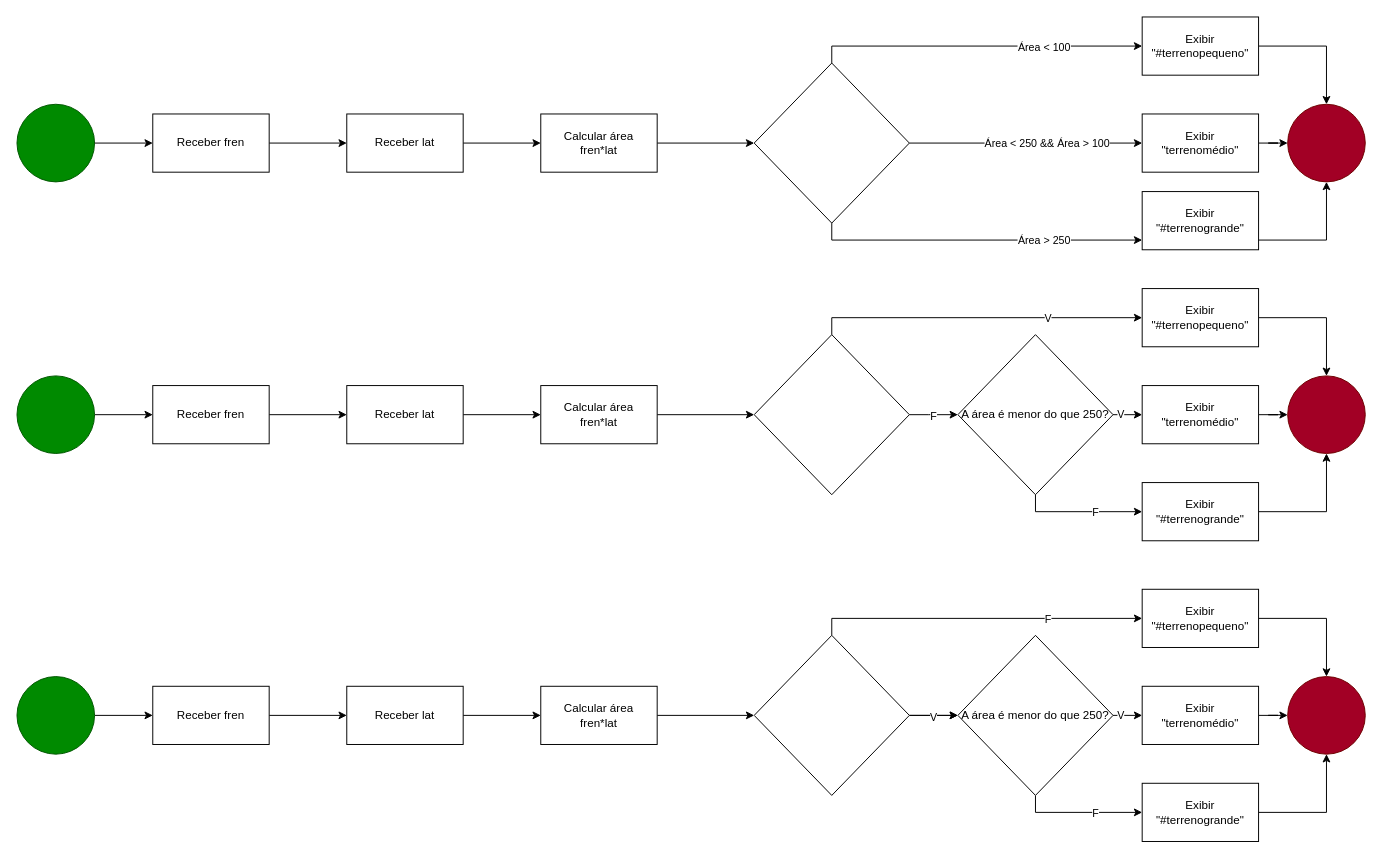
This 1382x858 diagram has some shape labels left out. Here are the shapes that lost their labels. From the top down, the box of each, then its label:
(753, 62, 909, 223): Valor área
(753, 334, 909, 495): A área é menor do que 100?
(753, 634, 909, 795): A área é maior do que 100?
